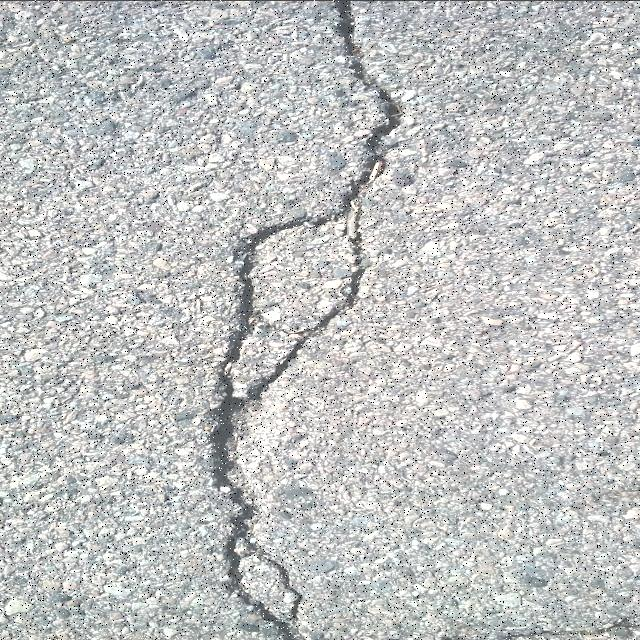Crack: (207, 0, 403, 640), (436, 614, 640, 640)
